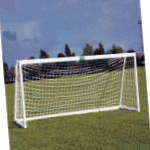goals: (14, 51, 143, 129)
